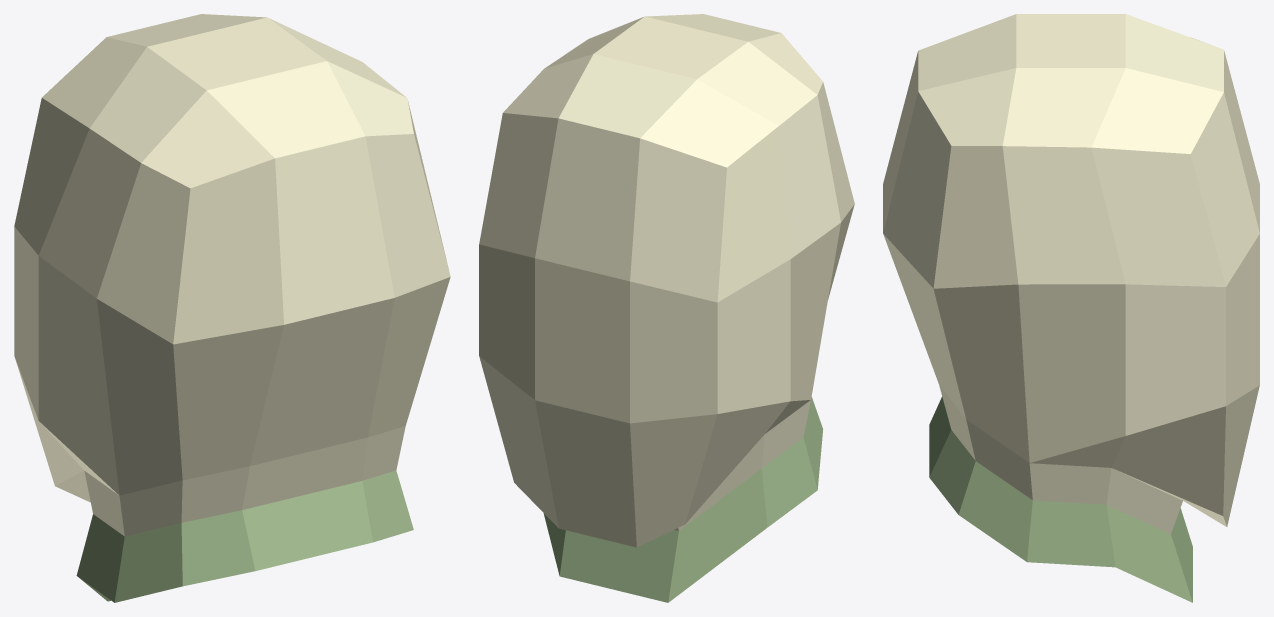
3 views of the same model, side by side, from view 1: azimuth 30°, elevation 25°; view 2: azimuth 150°, elevation 25°; view 3: azimuth 270°, elevation 25° (orthographic). The views are drawn at different scales.
Visible parts, largest first — view 1: avatar00; view 2: avatar00; view 3: avatar00.
Part boxes in pixels (<box>): avatar00: <box>14,14,450,602</box>; avatar00: <box>479,14,854,602</box>; avatar00: <box>883,14,1259,602</box>.
Size of the model in its own units: 0.1643 by 0.27 by 0.1728.
